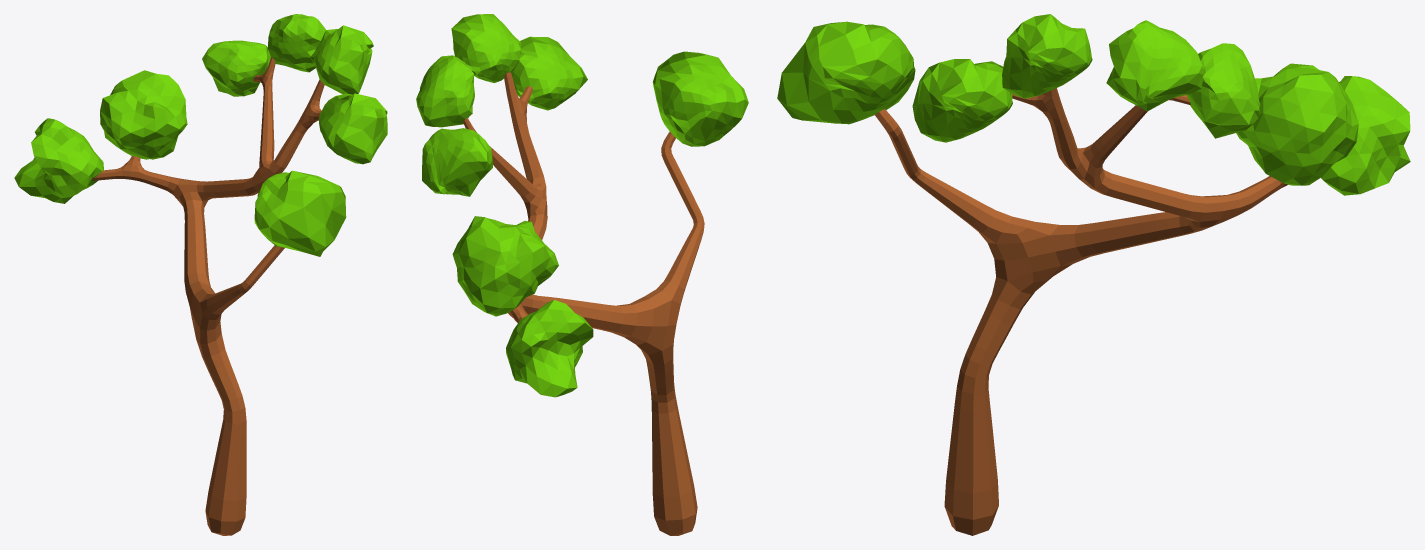
File: m_Tree2.fbx
3 views of the same model, side by side, from view 1: azimuth 30°, elevation 25°; view 2: azimuth 150°, elevation 25°; view 3: azimuth 270°, elevation 25° (orthographic). The views are drawn at different scales.
Visible parts, largest first — view 1: Tree, Leaves.006, Leaves.001, Leaves, Leaves.005, Leaves.004, Leaves.002, Leaves.003; view 2: Tree, Leaves.001, Leaves.006, Leaves, Leaves.002, Leaves.005, Leaves.004, Leaves.003; view 3: Tree, Leaves.006, Leaves.001, Leaves.005, Leaves, Leaves.003, Leaves.004, Leaves.002.
Boxes of the visible parts, x1,y1,x2,y2 form: Tree: (92, 57, 324, 535); Leaves.006: (254, 170, 346, 256); Leaves.001: (100, 70, 187, 159); Leaves: (14, 118, 103, 203); Leaves.005: (319, 93, 387, 164); Leaves.004: (310, 25, 373, 94); Leaves.002: (202, 40, 270, 96); Leaves.003: (268, 14, 325, 72); Tree: (463, 72, 704, 535); Leaves.001: (452, 216, 558, 316); Leaves.006: (652, 51, 748, 146); Leaves: (506, 300, 593, 397); Leaves.002: (422, 128, 492, 196); Leaves.005: (511, 36, 587, 110); Leaves.004: (451, 14, 521, 82); Leaves.003: (416, 55, 474, 127); Tree: (875, 88, 1287, 535); Leaves.006: (777, 21, 915, 124); Leaves.001: (1236, 63, 1358, 185); Leaves.005: (912, 59, 1012, 142); Leaves: (1321, 76, 1410, 195); Leaves.003: (1106, 20, 1203, 111); Leaves.004: (1002, 14, 1092, 98); Leaves.002: (1186, 43, 1260, 138).
Size of the model in its own units: 174 by 327 by 304.
